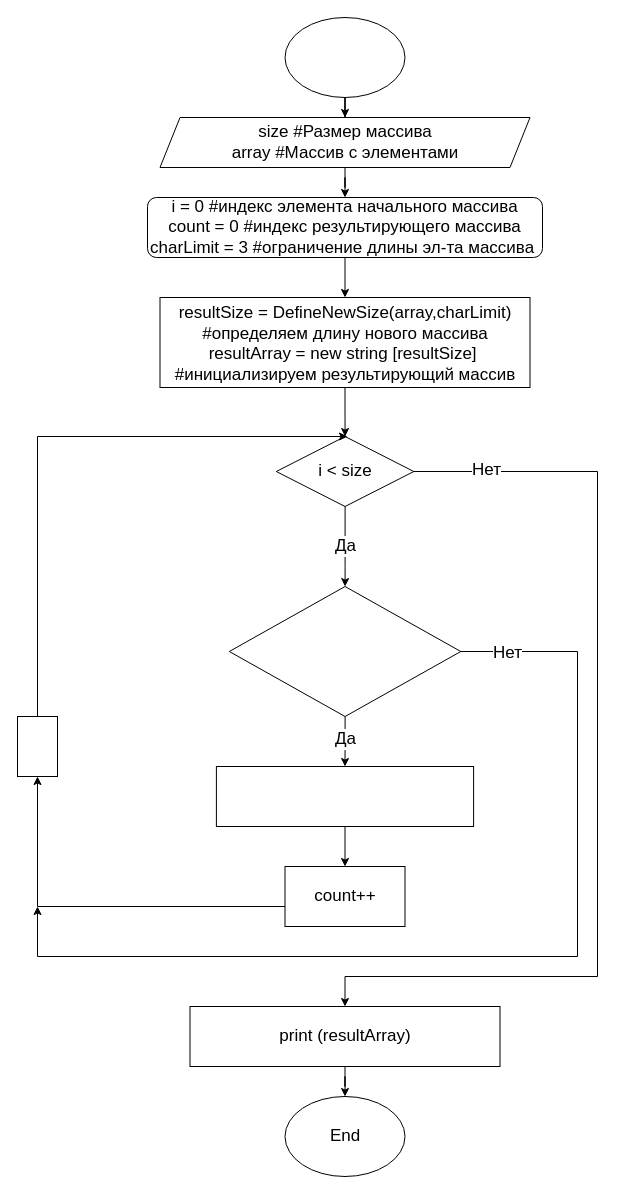
Image size: 623x1194. Some labels were removed from this diagram. Here are the shapes that lost their labels. From the top down, the centre of each, then its label:
[344,57]: Start
[344,651]: array[i].Length <= charLimit
[37,746]: i++
[344,796]: resultArray[count] = array[i]
